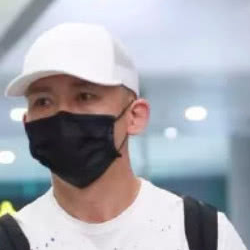mask: (22, 107, 128, 189)
